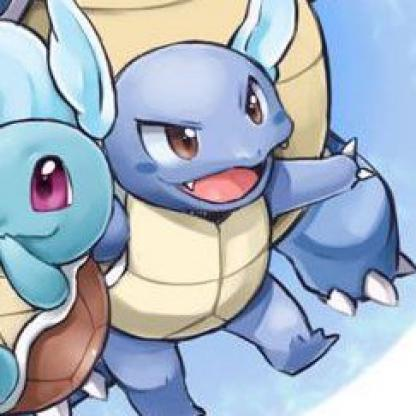Wartortle: (87, 21, 376, 416)
